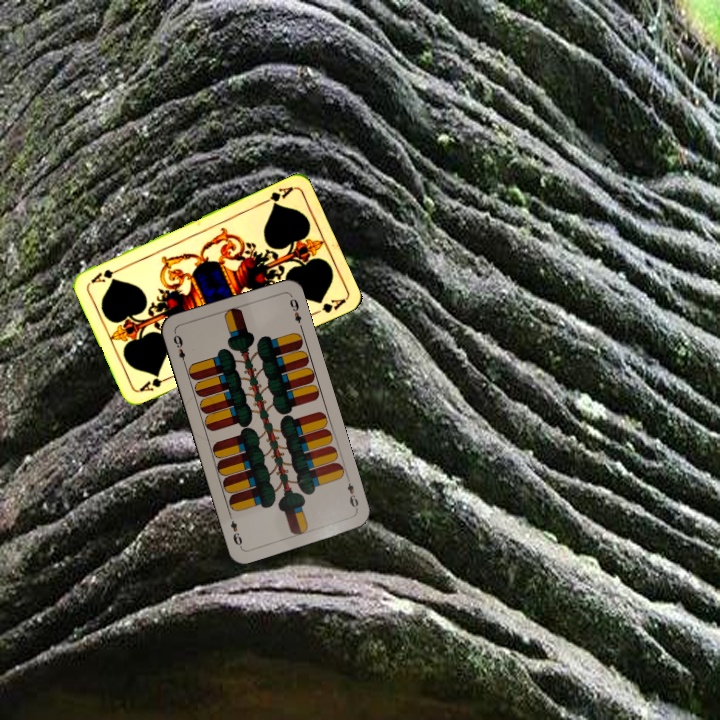E9: (169, 329, 189, 369), (343, 473, 361, 513)
GA: (257, 183, 296, 209), (135, 372, 174, 394)
